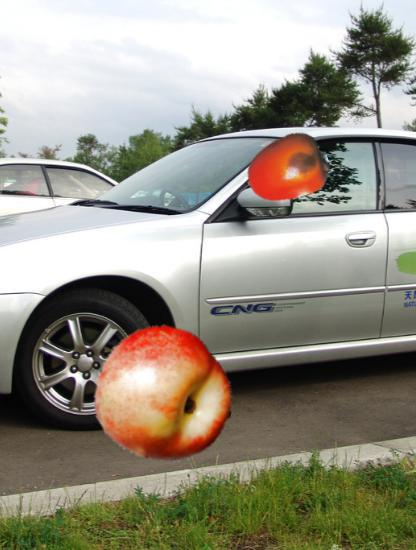Kaki: (245, 126, 330, 211)
Nectarine: (94, 324, 234, 464)
